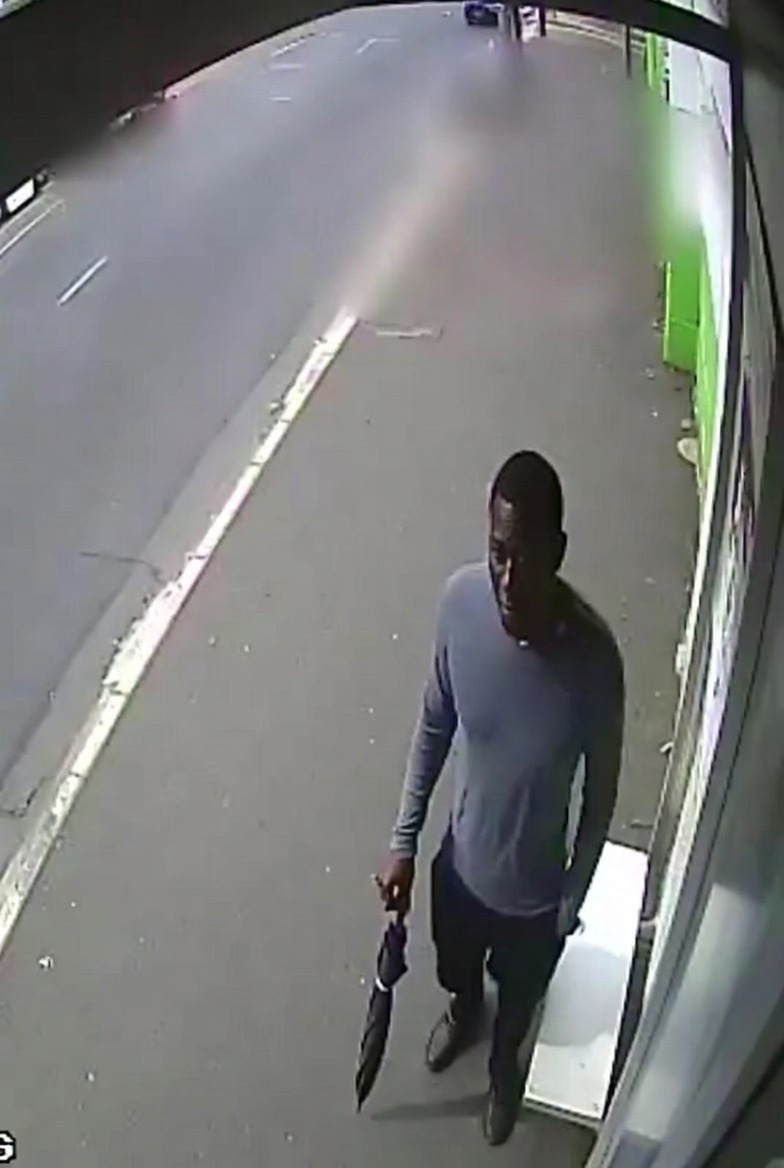person: (400, 455, 596, 1137)
umbrella: (336, 867, 406, 1127)
